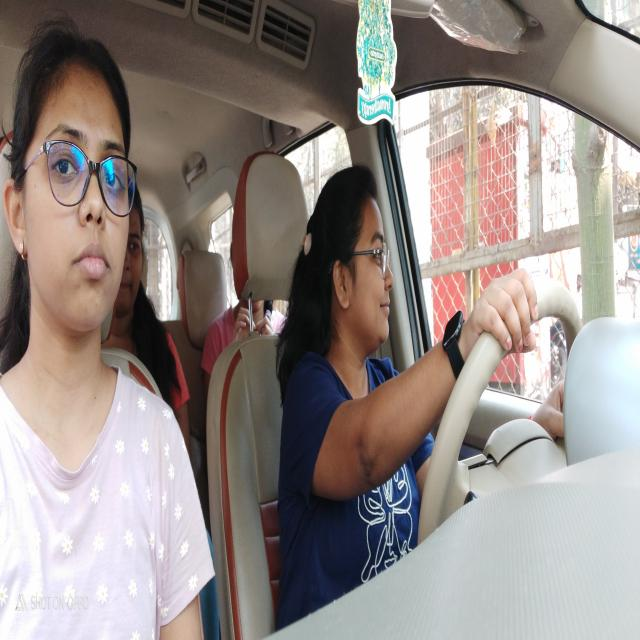LeftRight: (318, 162, 398, 369)
person: (4, 22, 140, 334), (119, 184, 152, 320)
